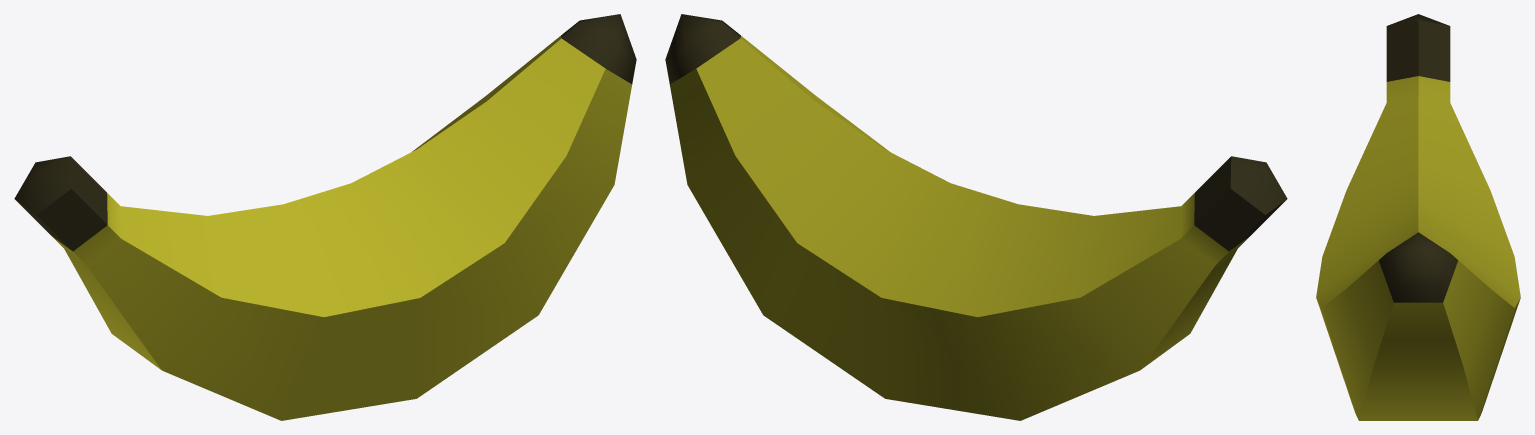
Rendered from Item_Banana_Mesh.fbx.
The picture shows the model from 3 angles, left to right: view 1: azimuth 30°, elevation 25°; view 2: azimuth 150°, elevation 25°; view 3: azimuth 270°, elevation 25°; orthographic projection. The views are drawn at different scales.
Parts seen in each view (by area): view 1: Item_Banana_Mesh; view 2: Item_Banana_Mesh; view 3: Item_Banana_Mesh.
Boxes of the visible parts, left/top/right/bottom form: Item_Banana_Mesh: left=14, top=14, right=636, bottom=420; Item_Banana_Mesh: left=665, top=14, right=1287, bottom=420; Item_Banana_Mesh: left=1316, top=14, right=1520, bottom=420.
Bounding box in the file's own units: 0.3799 × 0.1823 × 0.1267.
